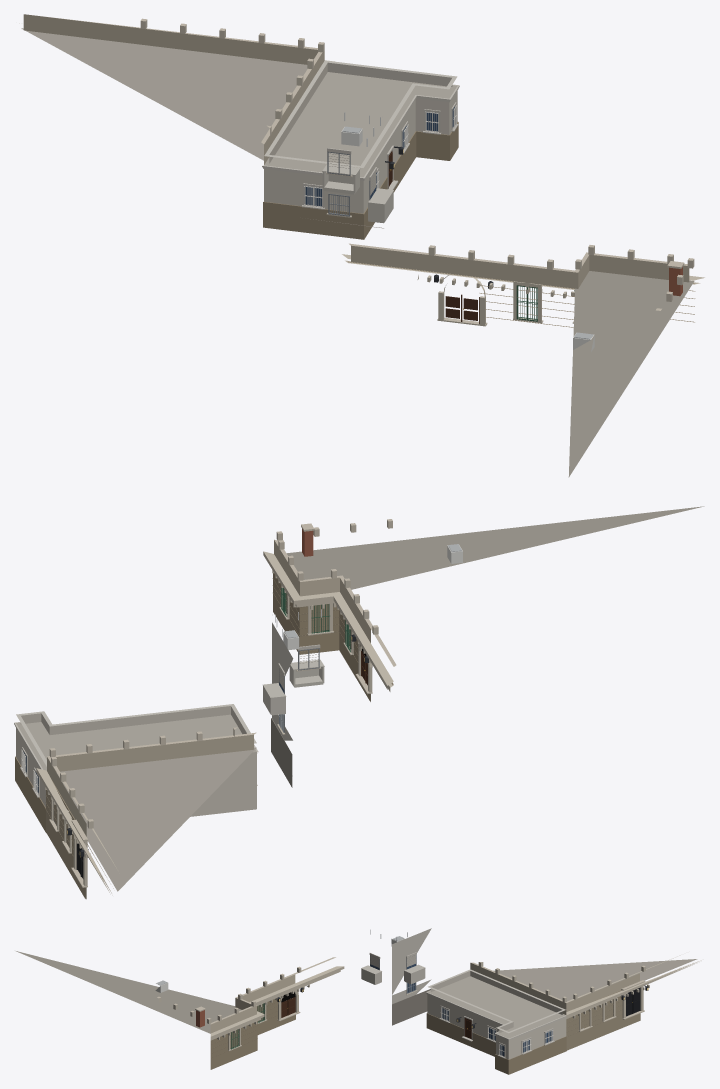
The picture shows the model from 3 angles, top to bottom: view 1: azimuth 30°, elevation 25°; view 2: azimuth 150°, elevation 25°; view 3: azimuth 270°, elevation 25°; orthographic projection. The views are drawn at different scales.
Parts seen in each view (by area): view 1: estructura_arquitectura, estructura_metal; view 2: estructura_arquitectura, estructura_metal; view 3: estructura_arquitectura, estructura_metal, estructura_cristal.
Boxes of the visible parts, left/top/right/bottom form: estructura_arquitectura: left=19, top=14, right=704, bottom=477; estructura_metal: left=304, top=105, right=594, bottom=351; estructura_arquitectura: left=14, top=506, right=704, bottom=899; estructura_metal: left=21, top=544, right=462, bottom=857; estructura_arquitectura: left=16, top=928, right=701, bottom=1074; estructura_metal: left=155, top=929, right=648, bottom=1056; estructura_cristal: left=279, top=964, right=648, bottom=1056.
Bounding box in the file's own units: 21.54 × 9.7 × 70.04.
